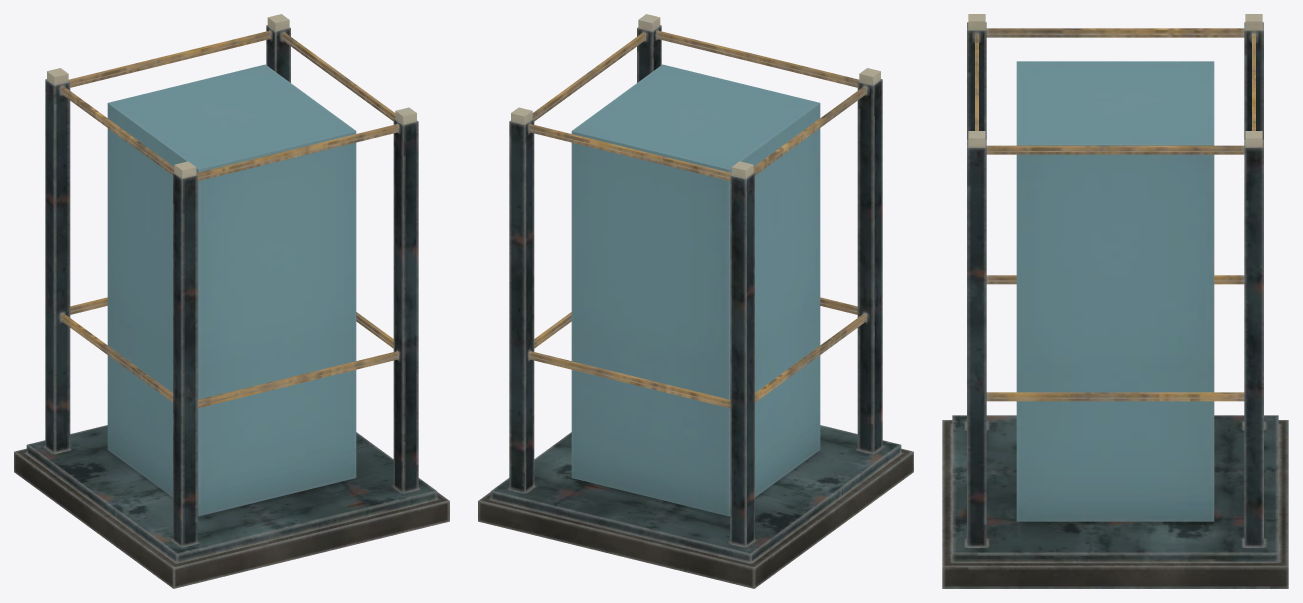
File: elevator.glb
The picture shows the model from 3 angles, left to right: view 1: azimuth 30°, elevation 25°; view 2: azimuth 150°, elevation 25°; view 3: azimuth 270°, elevation 25°; orthographic projection. The views are drawn at different scales.
Visible parts, largest first — view 1: te_elevator; view 2: te_elevator; view 3: te_elevator.
Part boxes in pixels (<box>): te_elevator: <box>14,14,449,588</box>; te_elevator: <box>478,14,913,588</box>; te_elevator: <box>942,14,1288,588</box>.
Bounding box in the file's own units: 0.7 × 0.98 × 0.7.
1 material, 1 textured.
